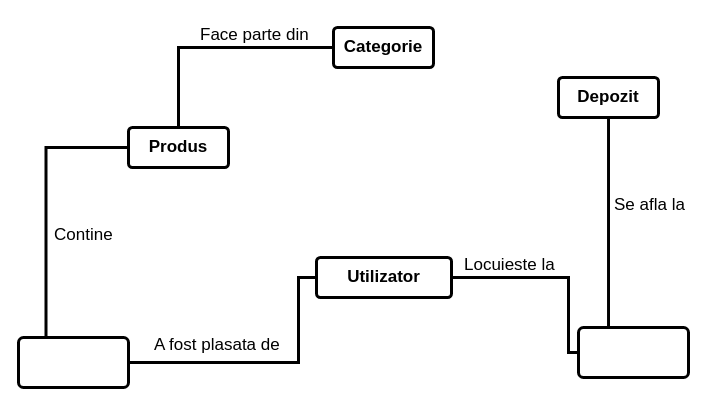
Some shapes in this 716 by 406 pixel diagram are drawn without their labels. The centre of each missing label's shape, as x and y in pixels:
Comanda: pixel 73 362
Locatie: pixel 633 352
